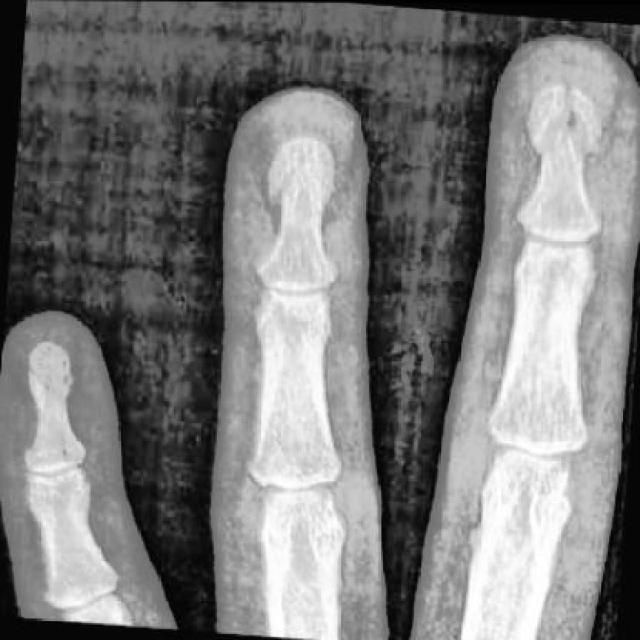Fracture: (257, 125, 342, 220), (527, 77, 616, 166)
